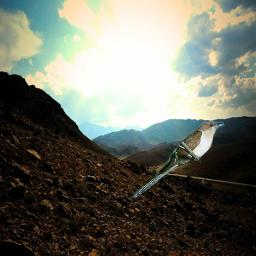Cuckoo: (130, 120, 226, 202)
